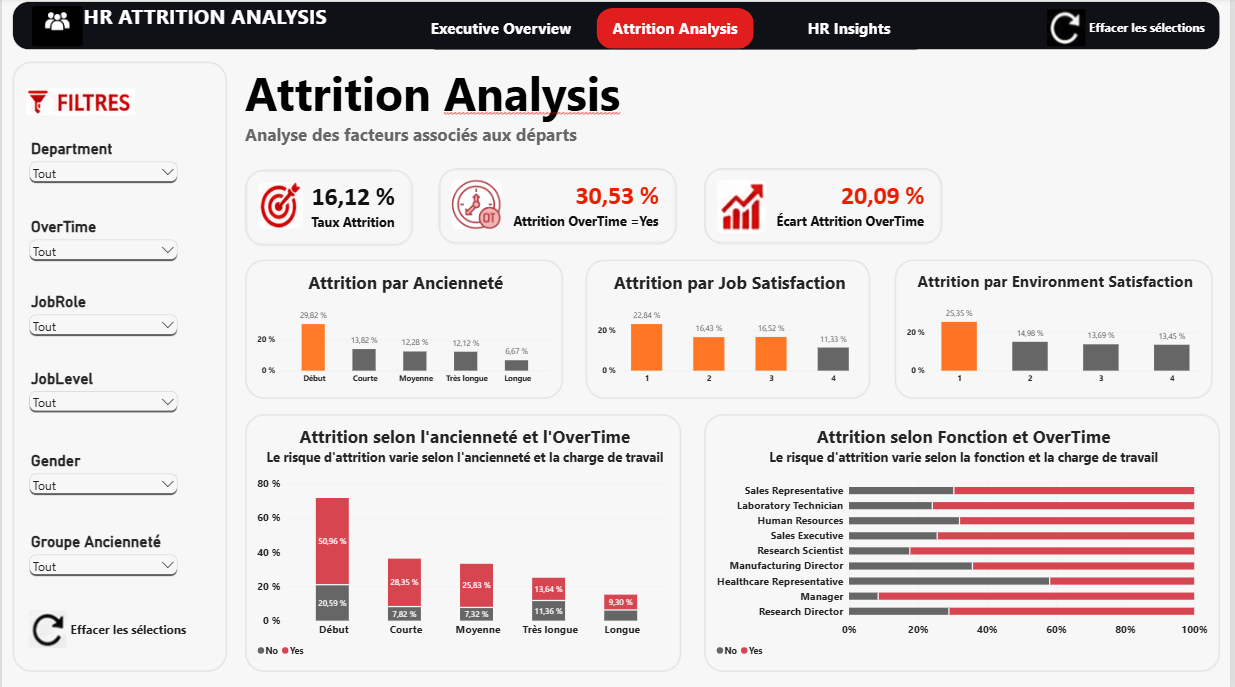

What the dashboard file says about the page in this screenshot:
{"tool":"powerbi","page":{"name":"Attrition Analysis","canvas":[1920,1080],"ordinal":1},"visuals":[{"type":"columnChart","title":"Attrition par Ancienneté","fields":{"Y":["_Mesures.Taux Attrition"],"Category":["Fact_Employee.Groupe Ancienneté"]},"box":[379.8,410.3,497,218],"z":0},{"type":"columnChart","title":"Attrition par Job Satisfaction","fields":{"Y":["_Mesures.Taux Attrition"],"Category":["Fact_Employee.JobSatisfaction"]},"box":[913.2,410.3,445.5,218],"z":1000},{"type":"columnChart","title":"Attrition par Environment Satisfaction","fields":{"Y":["_Mesures.Taux Attrition"],"Category":["Fact_Employee.EnvironmentSatisfaction"]},"box":[1395,410.3,497,218],"z":2000},{"type":"columnChart","title":"Attrition selon l''ancienneté et l''OverTime","fields":{"Y":["_Mesures.Taux Attrition"],"Category":["Fact_Employee.Groupe Ancienneté"],"Series":["Fact_Employee.OverTime"]},"box":[379.8,651.8,682.2,403.3],"z":3000},{"type":"hundredPercentStackedBarChart","title":" Attrition selon Fonction et OverTime   ","fields":{"Category":["Dim_JobRole.JobRole"],"Y":["_Mesures.Taux Attrition"],"Series":["Fact_Employee.OverTime"]},"box":[1097.2,651.8,806.5,403.3],"z":4000},{"type":"textbox","box":[16.4,7,1887.3,75],"z":5000},{"type":"image","box":[42.2,14.1,89.1,63.3],"z":6000},{"type":"pageNavigator","box":[656.5,16.4,792.4,66],"z":7000},{"type":"textbox","box":[16.4,100.8,335.3,954.2],"z":8000},{"type":"image","box":[37.9,118.5,170.6,87.7],"z":9000},{"type":"slicer","fields":{"Values":["Dim_Department.Department"]},"box":[37.9,222.7,241.7,94.8],"z":10000},{"type":"slicer","fields":{"Values":["Fact_Employee.OverTime"]},"box":[37.9,343.6,241.7,94.8],"z":11000},{"type":"slicer","fields":{"Values":["Dim_JobRole.JobRole"]},"box":[37.9,462,241.7,94.8],"z":12000},{"type":"slicer","fields":{"Values":["Fact_Employee.JobLevel"]},"box":[37.9,580.5,241.7,94.8],"z":13000},{"type":"slicer","fields":{"Values":["Fact_Employee.Gender"]},"box":[37.9,710.8,241.7,94.8],"z":14000},{"type":"slicer","fields":{"Values":["Fact_Employee.Groupe Ancienneté"]},"box":[37.9,836.4,241.7,94.8],"z":15000},{"type":"actionButton","box":[37.9,954.9,262.6,68],"z":16000},{"type":"actionButton","box":[1629.4,14.1,262.6,68],"z":17000},{"type":"textbox","box":[379.8,100.8,1512.2,140.7],"z":18000},{"type":"cardVisual","fields":{"Data":["_Mesures.Taux Attrition"]},"box":[379.8,269.6,262.6,119.4],"z":19000},{"type":"cardVisual","fields":{"Data":["_Mesures.Taux Attrition OverTime Yes"]},"box":[683.4,267.3,372.8,119.6],"z":20000},{"type":"cardVisual","fields":{"Data":["_Mesures.Écart Attrition OverTime"]},"box":[1097.2,267.3,372.8,119.6],"z":21000}]}

Visuals, with their boxes in screenshot pixels (x1, y1, x2, y2), scaled from the page's 1920x1080 canvas onto the 1235x687 screenshot:
"Attrition par Ancienneté" columnChart: rect(244, 261, 564, 400)
"Attrition par Job Satisfaction" columnChart: rect(587, 261, 874, 400)
"Attrition par Environment Satisfaction" columnChart: rect(897, 261, 1217, 400)
"Attrition selon l''ancienneté et l''OverTime" columnChart: rect(244, 415, 683, 671)
" Attrition selon Fonction et OverTime   " hundredPercentStackedBarChart: rect(706, 415, 1225, 671)
textbox: rect(11, 4, 1225, 52)
image: rect(27, 9, 84, 49)
pageNavigator: rect(422, 10, 932, 52)
textbox: rect(11, 64, 226, 671)
image: rect(24, 75, 134, 131)
slicer - Dim_Department.Department: rect(24, 142, 180, 202)
slicer - Fact_Employee.OverTime: rect(24, 219, 180, 279)
slicer - Dim_JobRole.JobRole: rect(24, 294, 180, 354)
slicer - Fact_Employee.JobLevel: rect(24, 369, 180, 430)
slicer - Fact_Employee.Gender: rect(24, 452, 180, 512)
slicer - Fact_Employee.Groupe Ancienneté: rect(24, 532, 180, 592)
actionButton: rect(24, 607, 193, 651)
actionButton: rect(1048, 9, 1217, 52)
textbox: rect(244, 64, 1217, 154)
cardVisual - _Mesures.Taux Attrition: rect(244, 171, 413, 247)
cardVisual - _Mesures.Taux Attrition OverTime Yes: rect(440, 170, 679, 246)
cardVisual - _Mesures.Écart Attrition OverTime: rect(706, 170, 946, 246)
